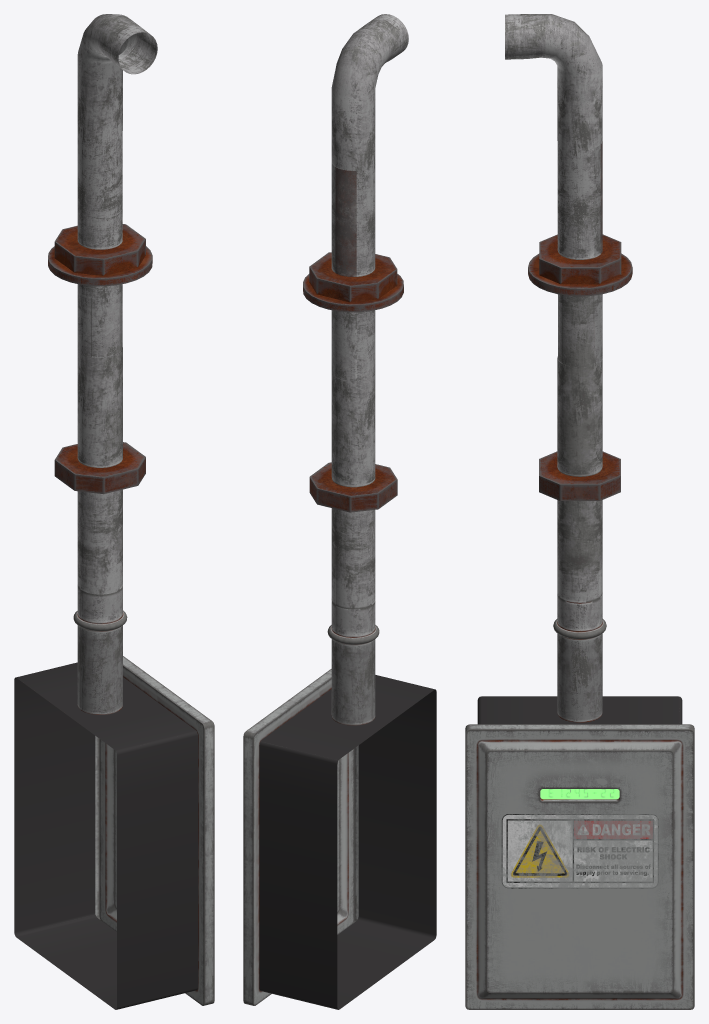
The model's file is wall box.fbx.
3 views of the same model, side by side, from view 1: azimuth 30°, elevation 25°; view 2: azimuth 150°, elevation 25°; view 3: azimuth 270°, elevation 25° (orthographic). The views are drawn at different scales.
Visible parts, largest first — view 1: fusebox, fusebox_pipe_004, fusebox_pipe_003, fusebox_pipe_002, fusebox_pipe; view 2: fusebox, fusebox_pipe_004, fusebox_pipe_003, fusebox_pipe_002, fusebox_pipe; view 3: fusebox, fusebox_pipe_004, fusebox_pipe_002, fusebox_pipe_003, fusebox_pipe.
Part boxes in pixels (bbox=[...]): fusebox: bbox=[14, 586, 214, 1009]; fusebox_pipe_004: bbox=[48, 131, 152, 357]; fusebox_pipe_003: bbox=[54, 347, 145, 494]; fusebox_pipe_002: bbox=[77, 14, 157, 139]; fusebox_pipe: bbox=[77, 489, 122, 594]; fusebox: bbox=[243, 600, 436, 1009]; fusebox_pipe_004: bbox=[303, 161, 403, 380]; fusebox_pipe_003: bbox=[309, 372, 397, 512]; fusebox_pipe_002: bbox=[331, 14, 408, 170]; fusebox_pipe: bbox=[331, 508, 375, 609]; fusebox: bbox=[465, 594, 694, 1009]; fusebox_pipe_004: bbox=[528, 141, 632, 367]; fusebox_pipe_002: bbox=[505, 14, 602, 150]; fusebox_pipe_003: bbox=[539, 356, 620, 500]; fusebox_pipe: bbox=[557, 500, 602, 602].
Bounding box in the file's own units: 0.2337 × 2.03 × 0.437.
2 materials, 2 textured.
